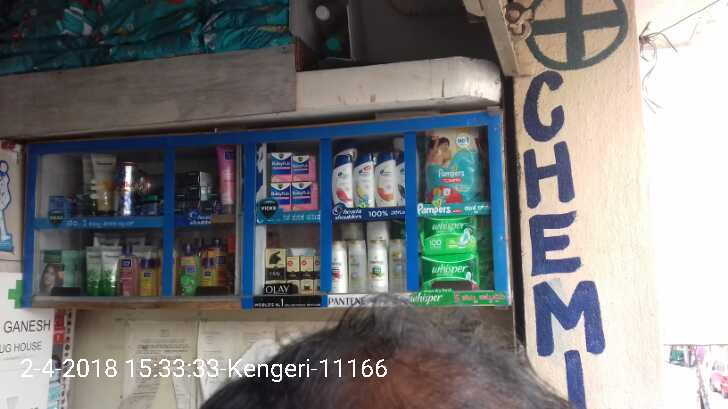vicks: (269, 150, 321, 209)
